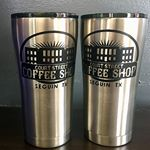cups: (9, 10, 82, 150), (79, 11, 149, 150)
